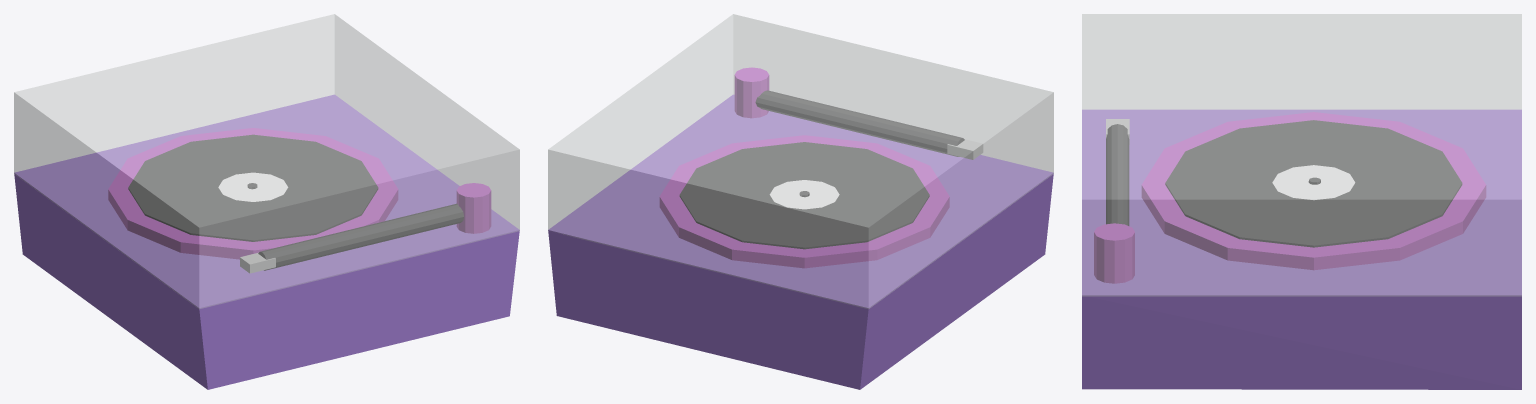
The picture shows the model from 3 angles, left to right: view 1: azimuth 30°, elevation 25°; view 2: azimuth 150°, elevation 25°; view 3: azimuth 270°, elevation 25°; orthographic projection. The views are drawn at different scales.
Parts seen in each view (by area): view 1: Node; view 2: Node; view 3: Node.
Part boxes in pixels (bbox=[...]): Node: bbox=[14, 14, 519, 389]; Node: bbox=[548, 14, 1053, 389]; Node: bbox=[1082, 14, 1521, 389].
Bounding box in the file's own units: 0.37 × 0.1812 × 0.37.
